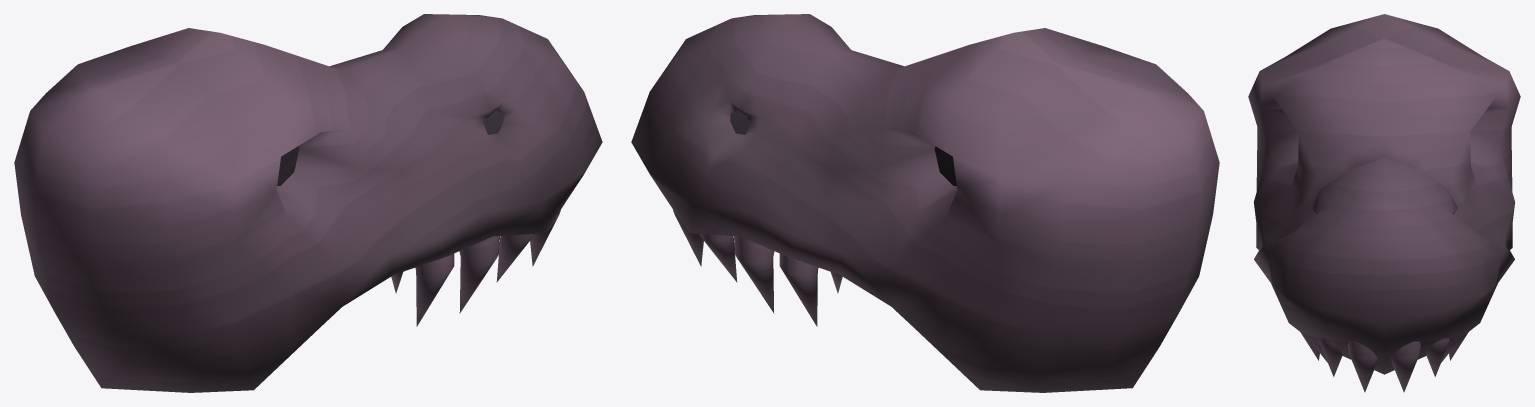
File: SM_Upper_Skull_w_Collider.fbx
The picture shows the model from 3 angles, left to right: view 1: azimuth 30°, elevation 25°; view 2: azimuth 150°, elevation 25°; view 3: azimuth 270°, elevation 25°; orthographic projection. The views are drawn at different scales.
Visible parts, largest first — view 1: Upper_Skull; view 2: Upper_Skull; view 3: Upper_Skull.
Boxes of the visible parts, x1,y1,x2,y2 form: Upper_Skull: [14, 14, 602, 392]; Upper_Skull: [631, 14, 1219, 392]; Upper_Skull: [1248, 14, 1520, 392].
Size of what is drawn, in the model's own units: 56.86 by 34.9 by 30.07.
Materials: 1 (1 with a texture image).
